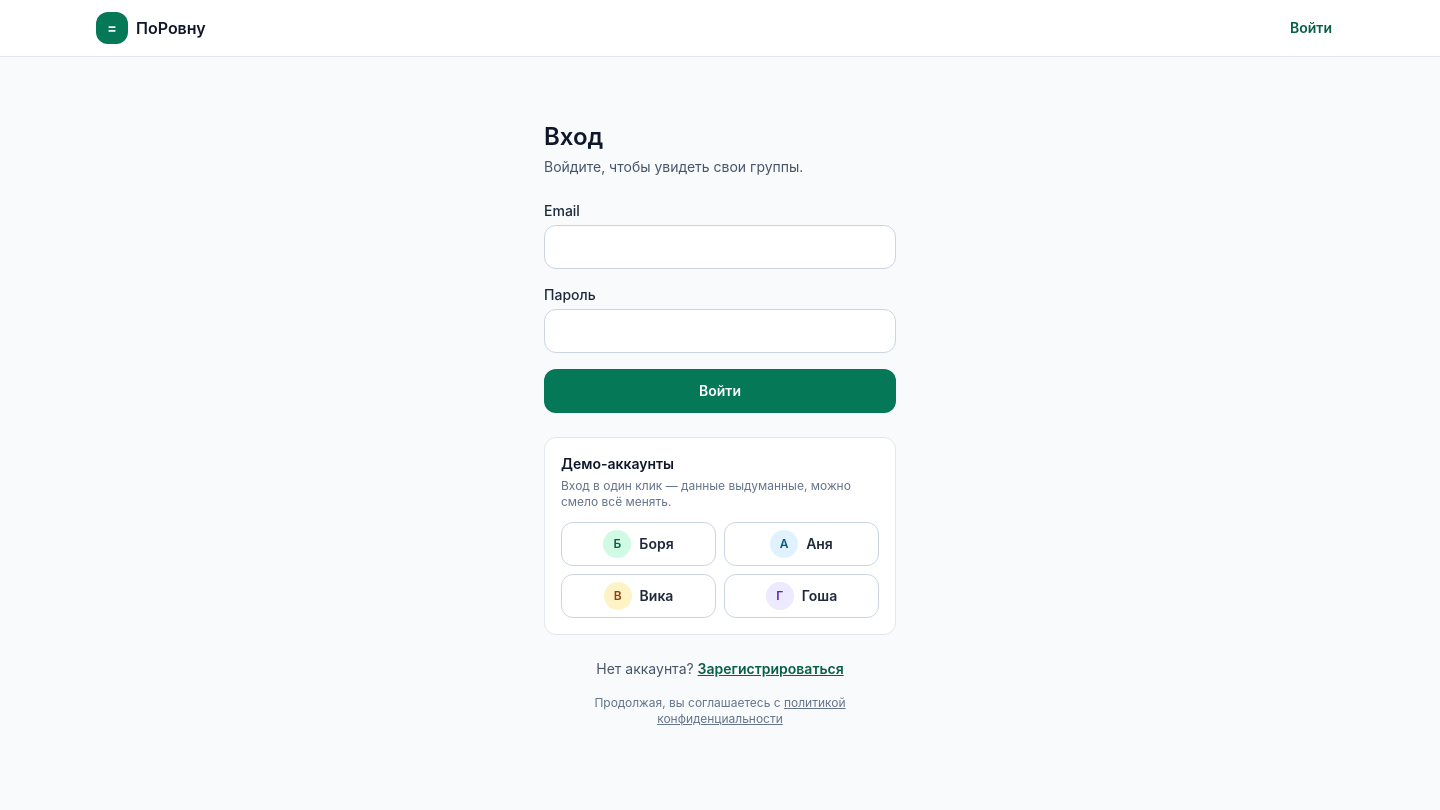
вход, регистрация и защищённые маршруты (US-01, FR-1.1, FR-1.2) › неверный пароль — общий текст, без подсказки, что именно неверно (AC-01.3)
Type "borya@poravnu.demo" into the field labelled "Email".
click(720, 247); type("borya@poravnu.demo")  # box [544, 225, 896, 269]
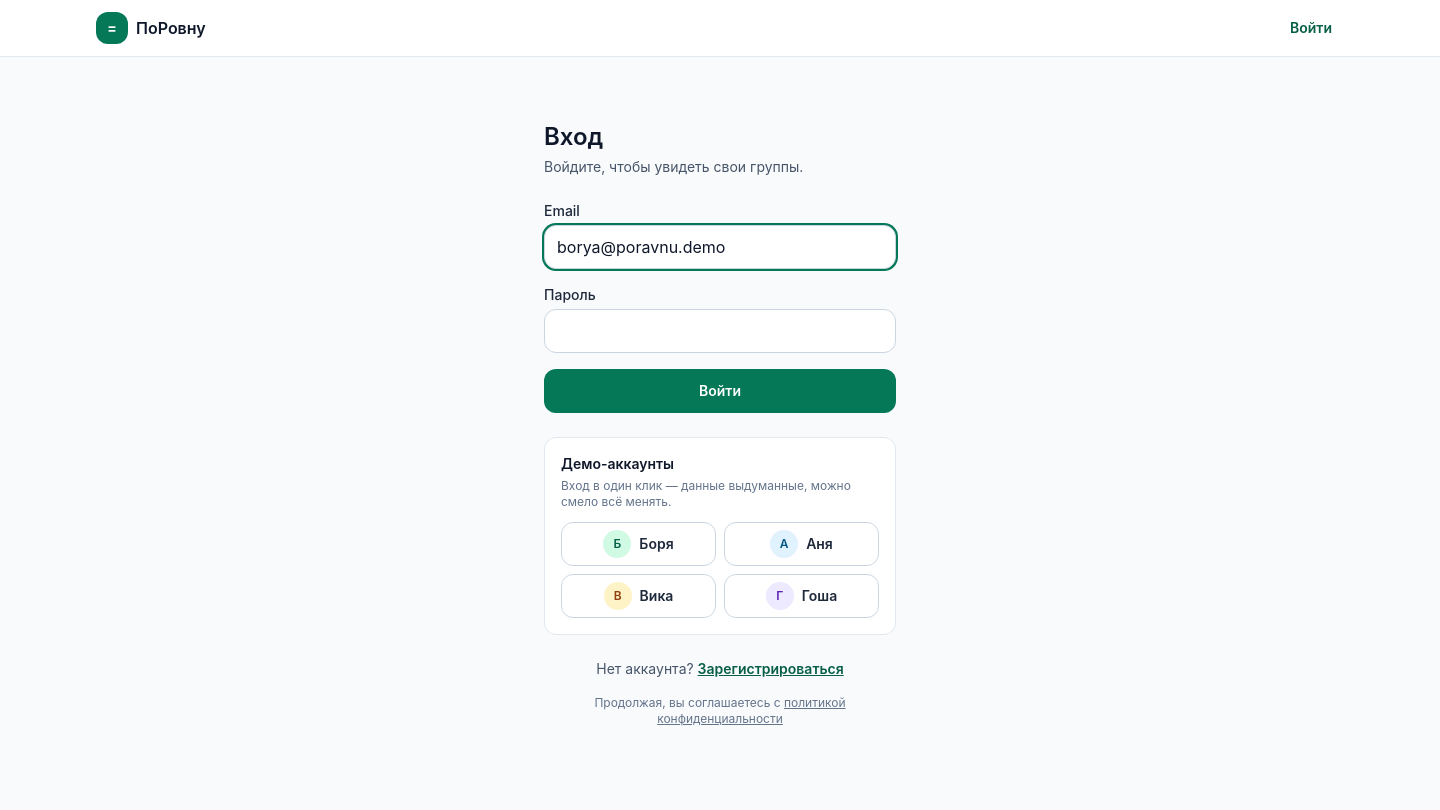
Type "wrong-pass" into the password field labelled "Пароль".
click(720, 331); type("wrong-pass")  # box [544, 309, 896, 353]
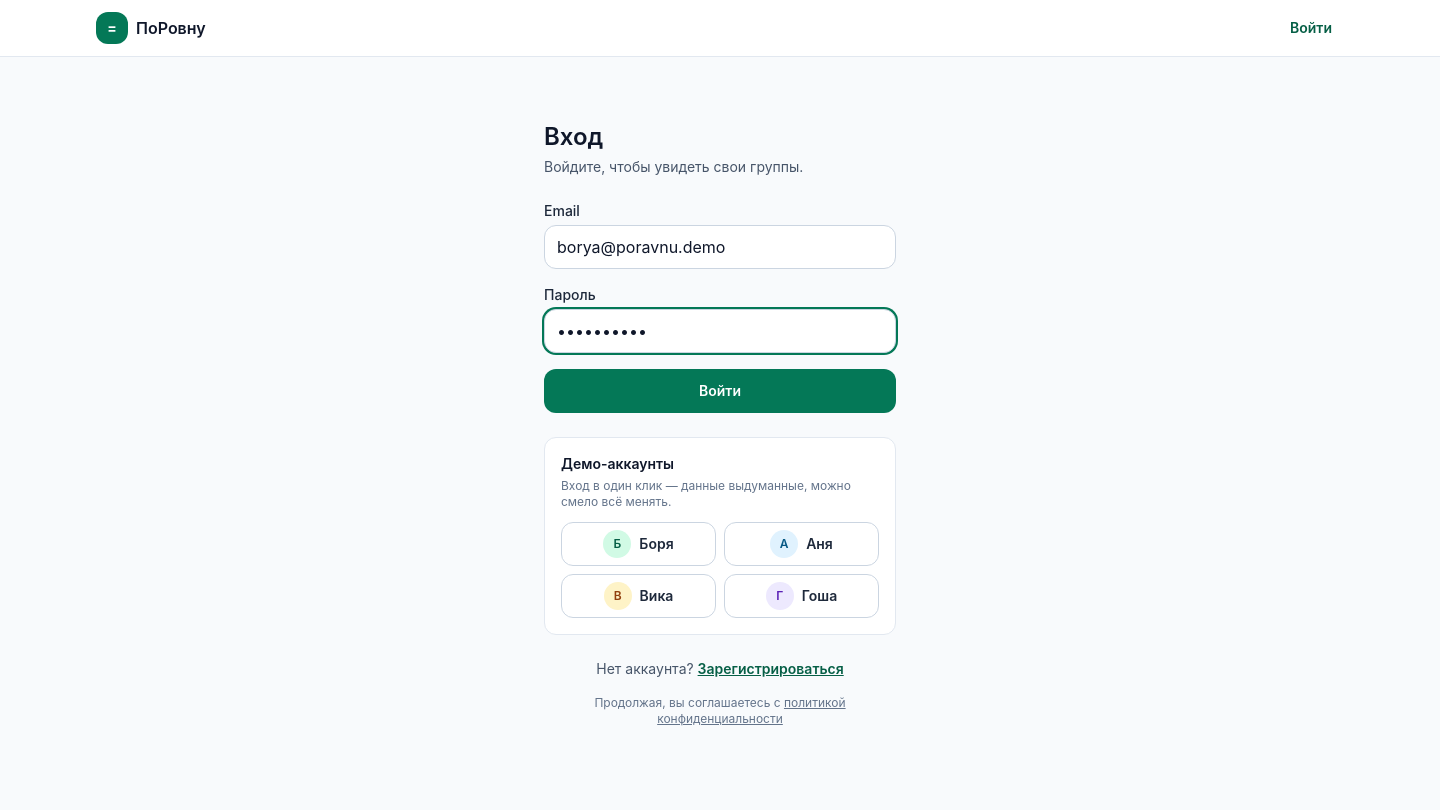
Click the button "Войти".
click(720, 391)  # box [544, 369, 896, 413]
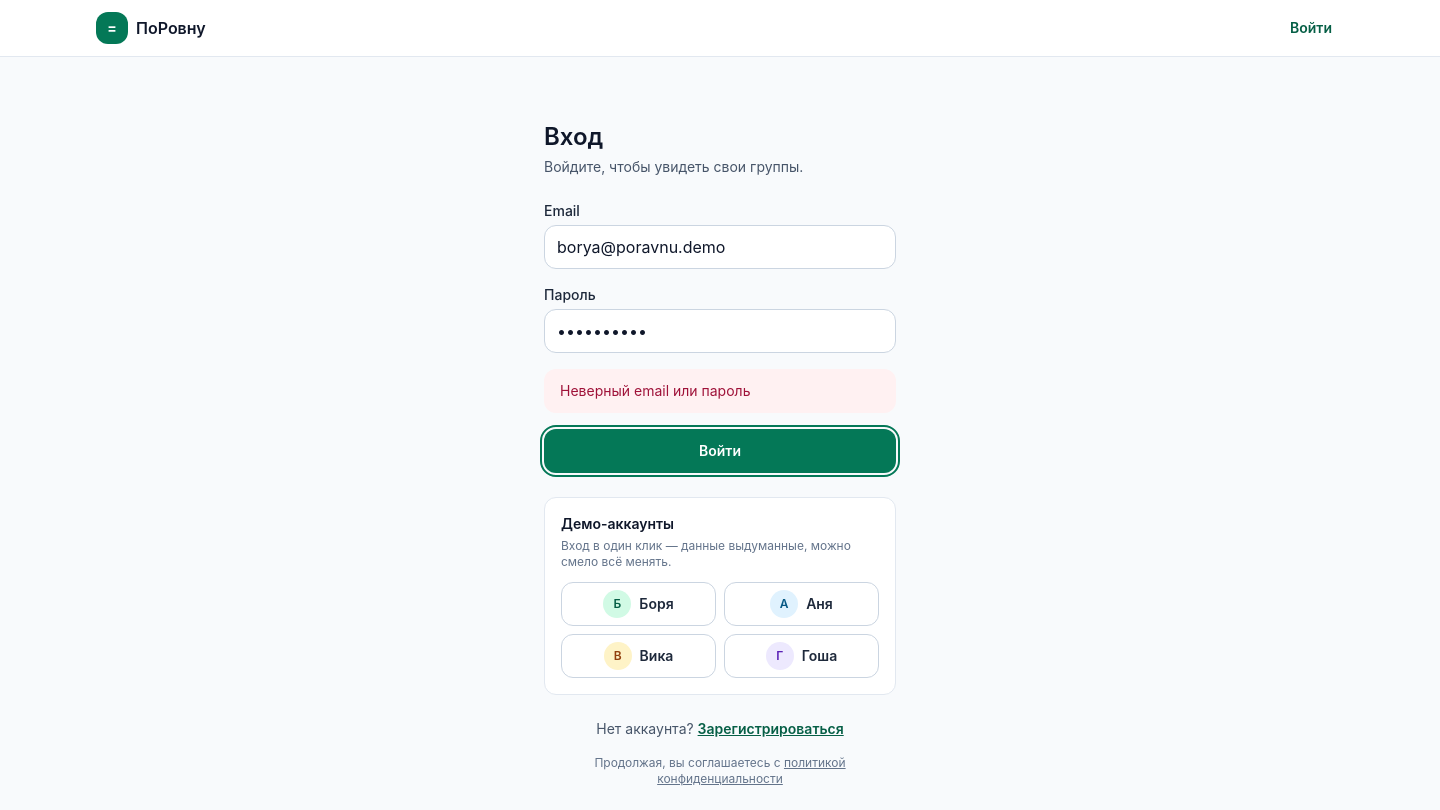
Check: the message reads "Неверный email или пароль", box [560, 382, 750, 399]
